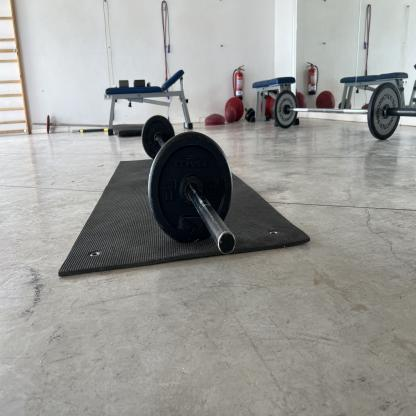barbell: (149, 133, 233, 245), (372, 83, 403, 141)
